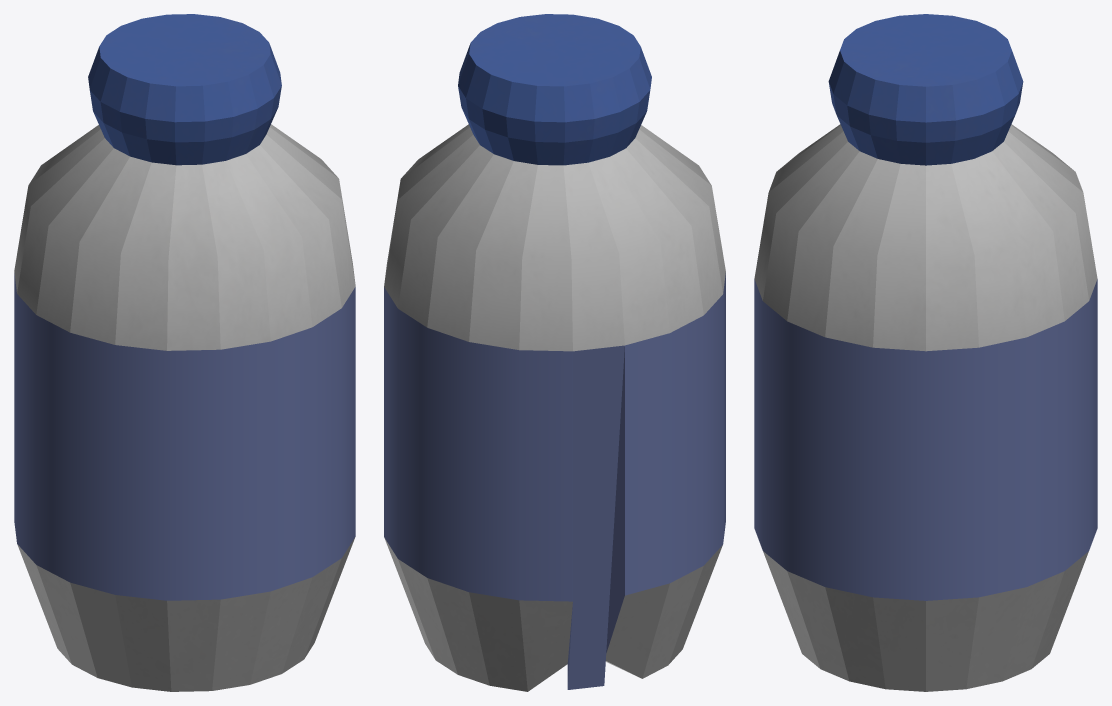
Rendered from SauceBottle_3.fbx.
3 views of the same model, side by side, from view 1: azimuth 30°, elevation 25°; view 2: azimuth 150°, elevation 25°; view 3: azimuth 270°, elevation 25° (orthographic).
Visible parts, largest first — view 1: pCylinder76; view 2: pCylinder76; view 3: pCylinder76.
Part boxes in pixels (x1,y1,x2,y2): pCylinder76: (14,14,355,691); pCylinder76: (384,14,725,691); pCylinder76: (754,14,1097,691).
Bounding box in the file's own units: 0.094 × 0.1776 × 0.094.
